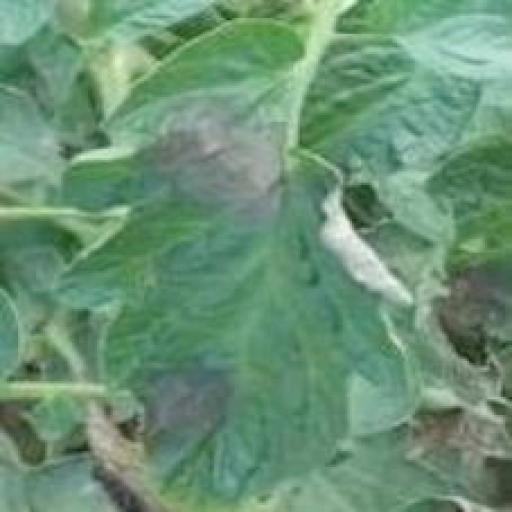disease_tomato: (48, 4, 418, 512)
